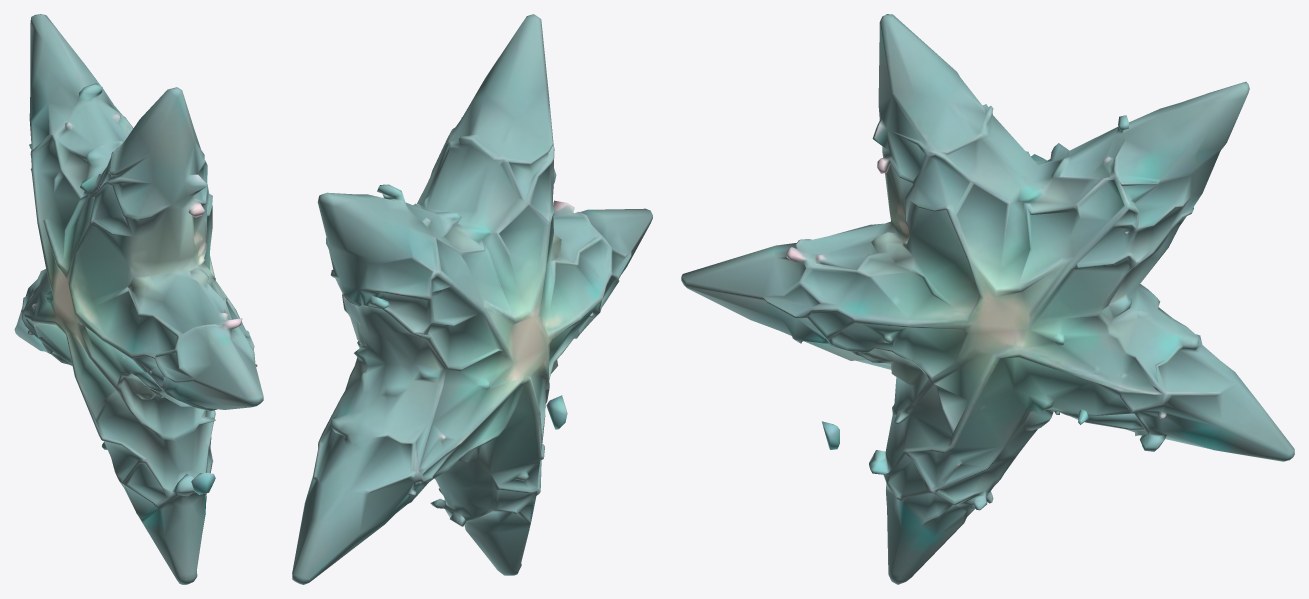
File: p_wishstar.glb
3 renders of one model, left to right at view 1: azimuth 30°, elevation 25°; view 2: azimuth 150°, elevation 25°; view 3: azimuth 270°, elevation 25°, orthographic. The views are drawn at different scales.
Visible parts, largest first — view 1: tripo_node_719d1e7f-241e-4a08-8dd8-5cb5c8b53be7; view 2: tripo_node_719d1e7f-241e-4a08-8dd8-5cb5c8b53be7; view 3: tripo_node_719d1e7f-241e-4a08-8dd8-5cb5c8b53be7.
Part boxes in pixels (bbox=[...]): tripo_node_719d1e7f-241e-4a08-8dd8-5cb5c8b53be7: bbox=[14, 14, 263, 584]; tripo_node_719d1e7f-241e-4a08-8dd8-5cb5c8b53be7: bbox=[292, 14, 652, 584]; tripo_node_719d1e7f-241e-4a08-8dd8-5cb5c8b53be7: bbox=[681, 14, 1294, 584].
Bounding box in the file's own units: 0.2876 × 1 × 0.9922.
1 material, 1 textured.
